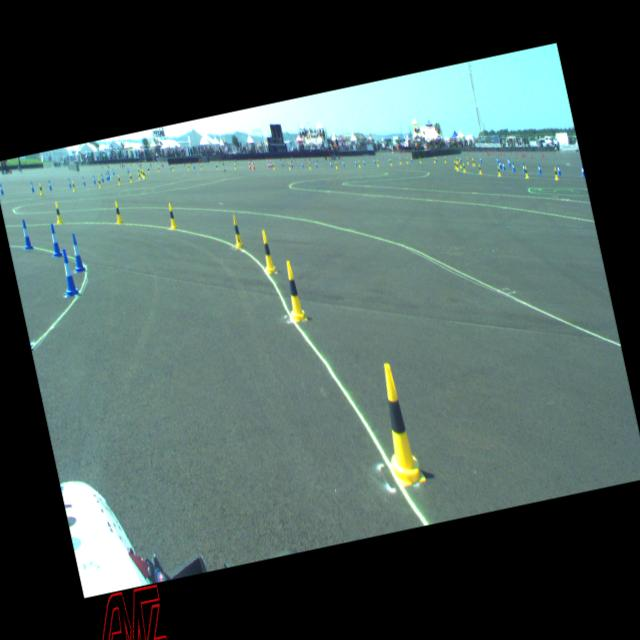blue_cone: (56, 248, 79, 298), (68, 232, 86, 272), (46, 222, 64, 257), (18, 219, 34, 250), (536, 162, 541, 174), (29, 180, 34, 192), (579, 165, 584, 176), (556, 162, 560, 175), (48, 179, 52, 190), (510, 161, 514, 171), (521, 162, 525, 172), (106, 170, 110, 180), (67, 177, 71, 187), (502, 161, 506, 170), (100, 173, 104, 182), (506, 156, 510, 165), (0, 183, 3, 194), (498, 160, 502, 168), (508, 158, 512, 166), (314, 160, 318, 168), (300, 160, 304, 168), (328, 160, 332, 167), (372, 157, 376, 164), (92, 174, 95, 183), (105, 172, 108, 181), (112, 168, 115, 176), (82, 176, 85, 184), (362, 158, 365, 166), (478, 156, 482, 162), (458, 156, 462, 162), (354, 158, 357, 166), (434, 155, 437, 161), (192, 162, 195, 168), (268, 161, 271, 167), (146, 164, 148, 172), (496, 156, 498, 163), (126, 166, 128, 173), (342, 160, 344, 167), (215, 161, 217, 168), (290, 160, 292, 167), (388, 156, 390, 163), (410, 156, 412, 162), (169, 165, 171, 170)
large_orange_cone: (247, 158, 251, 170), (250, 158, 254, 169), (268, 158, 272, 167), (266, 158, 269, 167)
yellow_cone: (370, 360, 426, 488), (279, 258, 308, 322), (258, 228, 276, 274), (228, 214, 244, 248), (165, 202, 177, 229), (52, 201, 63, 224), (112, 200, 123, 223), (552, 167, 558, 180), (70, 180, 76, 191), (523, 165, 528, 178), (38, 182, 43, 194), (477, 164, 482, 174), (496, 164, 500, 176), (97, 177, 101, 187), (462, 162, 466, 172), (116, 174, 120, 184), (128, 173, 132, 182), (137, 172, 141, 180), (458, 160, 462, 168), (307, 162, 311, 170), (471, 157, 475, 165), (357, 160, 361, 168), (454, 162, 458, 170), (334, 161, 338, 168), (388, 158, 392, 165), (140, 168, 143, 176), (376, 158, 379, 166), (272, 162, 275, 170), (141, 167, 144, 175), (472, 157, 475, 165), (405, 156, 408, 163), (455, 156, 458, 163), (418, 156, 421, 163), (398, 157, 401, 164), (137, 168, 140, 175), (147, 165, 150, 172), (142, 170, 145, 177), (157, 165, 160, 172), (233, 163, 236, 170), (187, 163, 190, 170), (250, 162, 253, 169), (432, 156, 435, 162), (454, 159, 456, 168), (171, 164, 174, 170), (466, 156, 468, 164), (216, 162, 218, 170), (200, 163, 202, 170), (444, 156, 446, 162), (288, 162, 290, 168)
